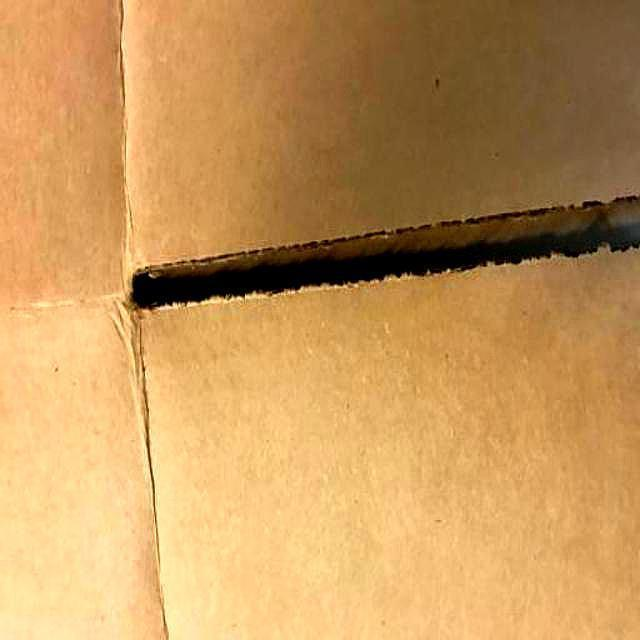Biodegradable: (1, 1, 640, 640)
